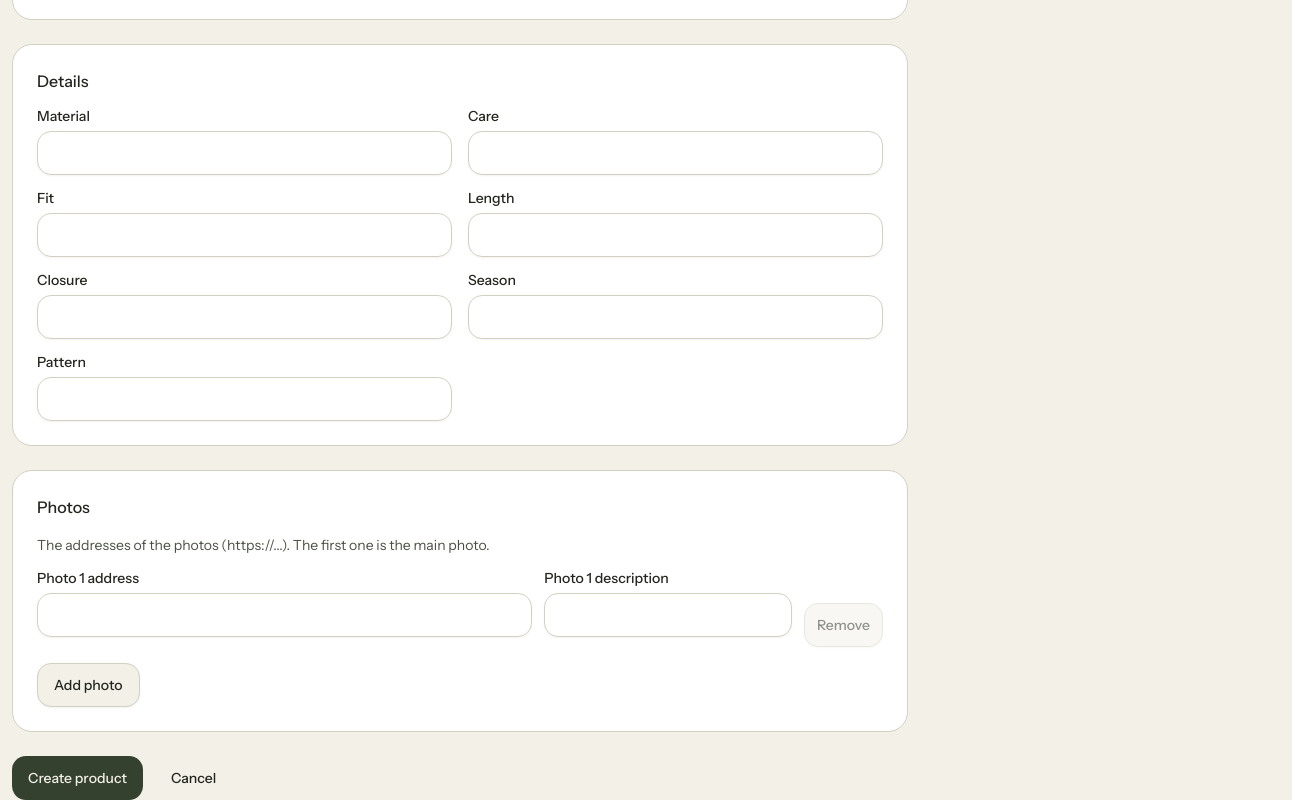
Test case: admin ProductEditPage: a new product › shows what is missing under each field, and sends nothing
The image size is (1292, 800).
(page scrolled)
Click the button "Create product": (78, 778) [12,756,143,799]
(page scrolled)
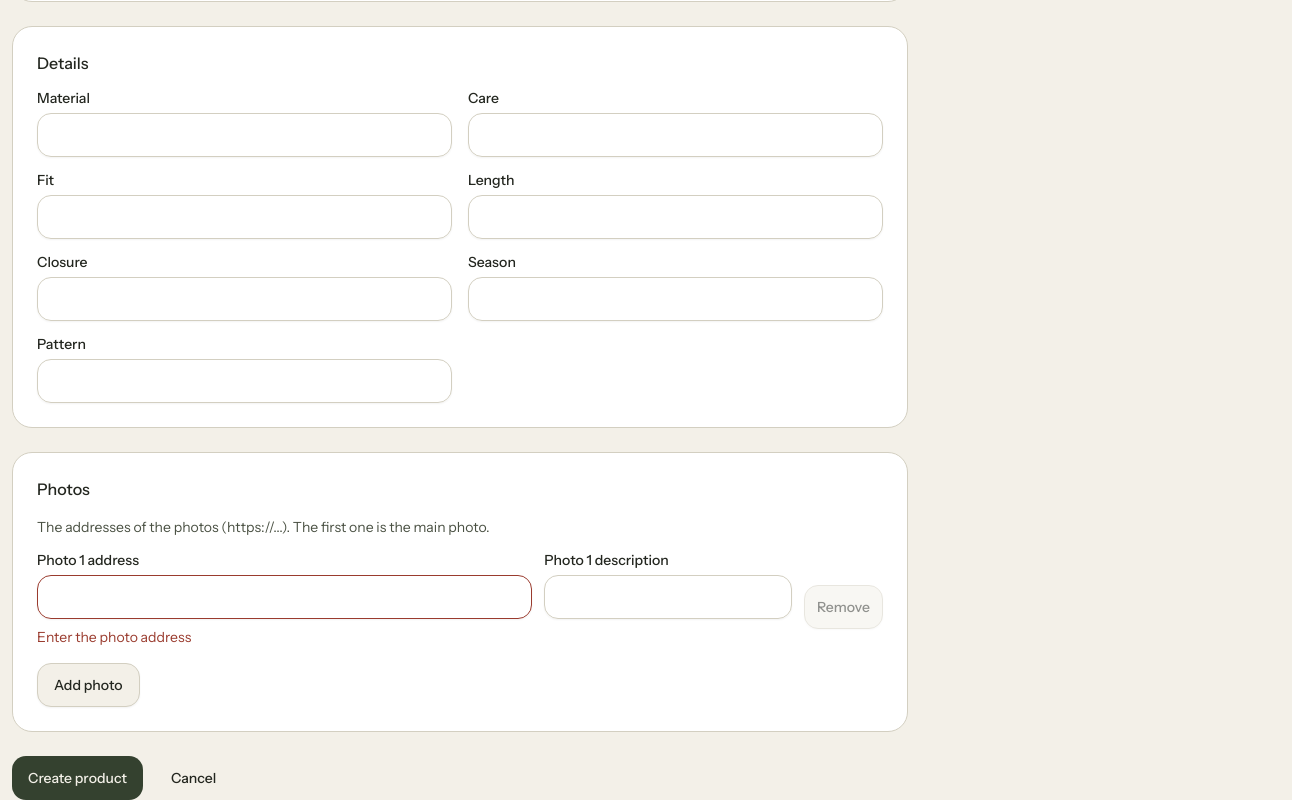
Expected: the text "Enter the photo address" is shown, [37,628,191,646]
